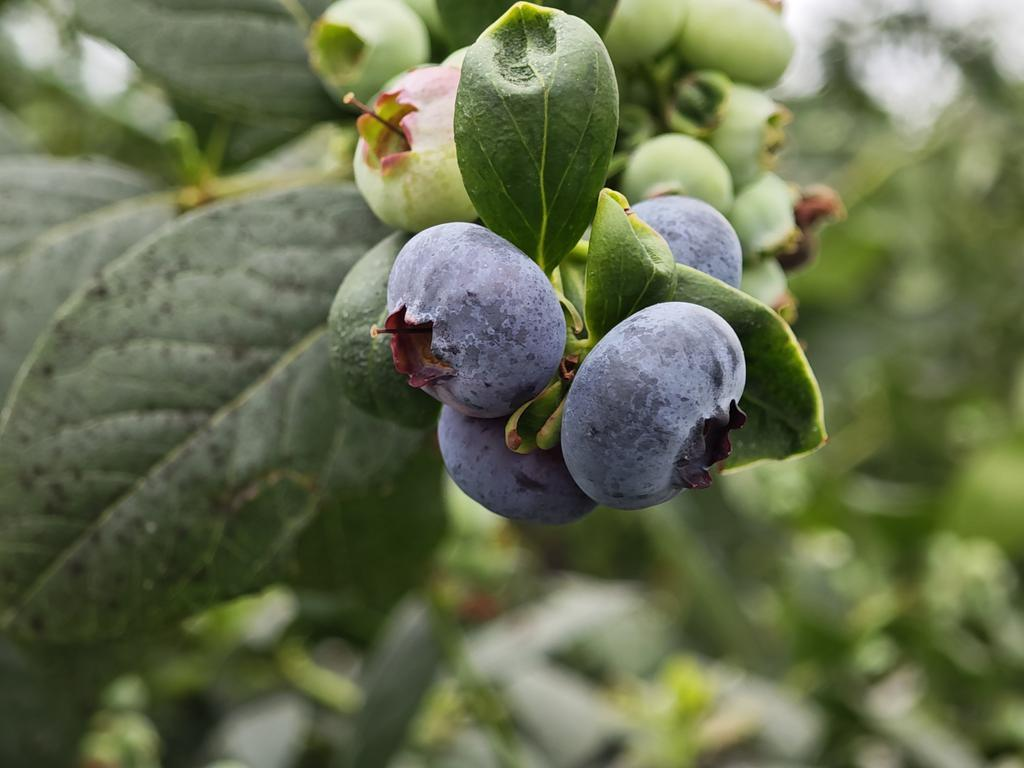RipeBlueBerry: (566, 299, 744, 512), (384, 222, 570, 416)
